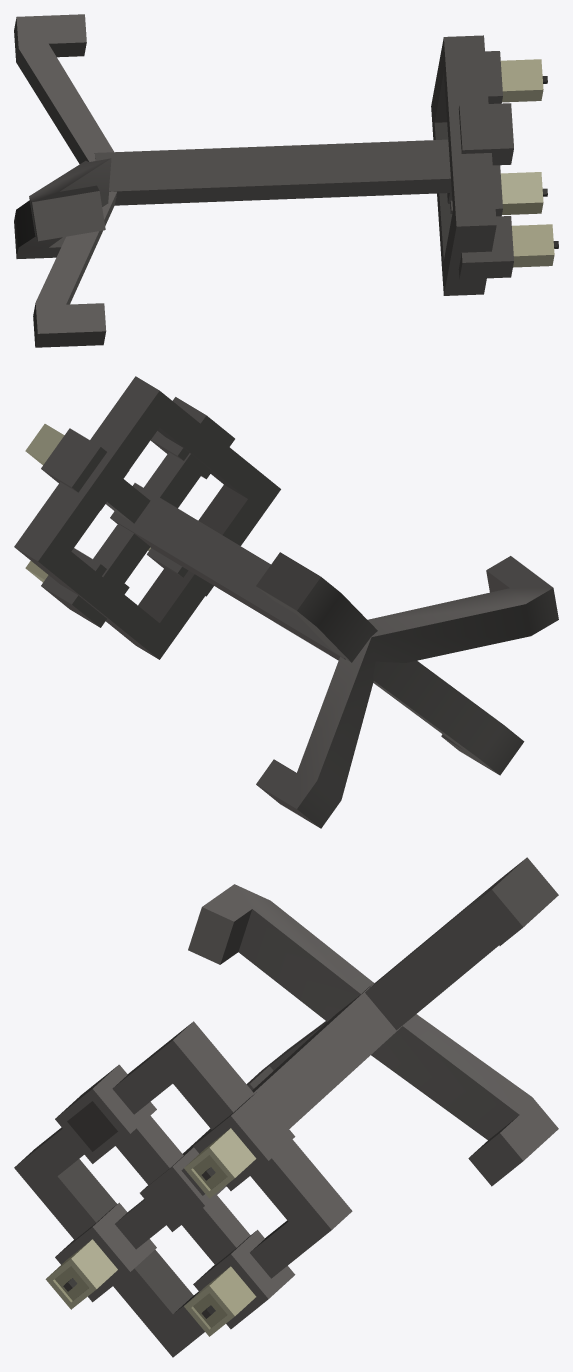
Rendered from SD_Prop_CandleStand_02.fbx.
3 views of the same model, one above another, from view 1: azimuth 30°, elevation 25°; view 2: azimuth 150°, elevation 25°; view 3: azimuth 270°, elevation 25° (orthographic). The views are drawn at different scales.
Visible parts, largest first — view 1: SD_Prop_CandleStand_02; view 2: SD_Prop_CandleStand_02; view 3: SD_Prop_CandleStand_02.
Boxes of the visible parts, left/top/right/bottom form: SD_Prop_CandleStand_02: left=14, top=14, right=558, bottom=347; SD_Prop_CandleStand_02: left=14, top=376, right=558, bottom=828; SD_Prop_CandleStand_02: left=14, top=857, right=558, bottom=1357.
Size of the model in its own units: 3.32 by 1.62 by 2.52.
